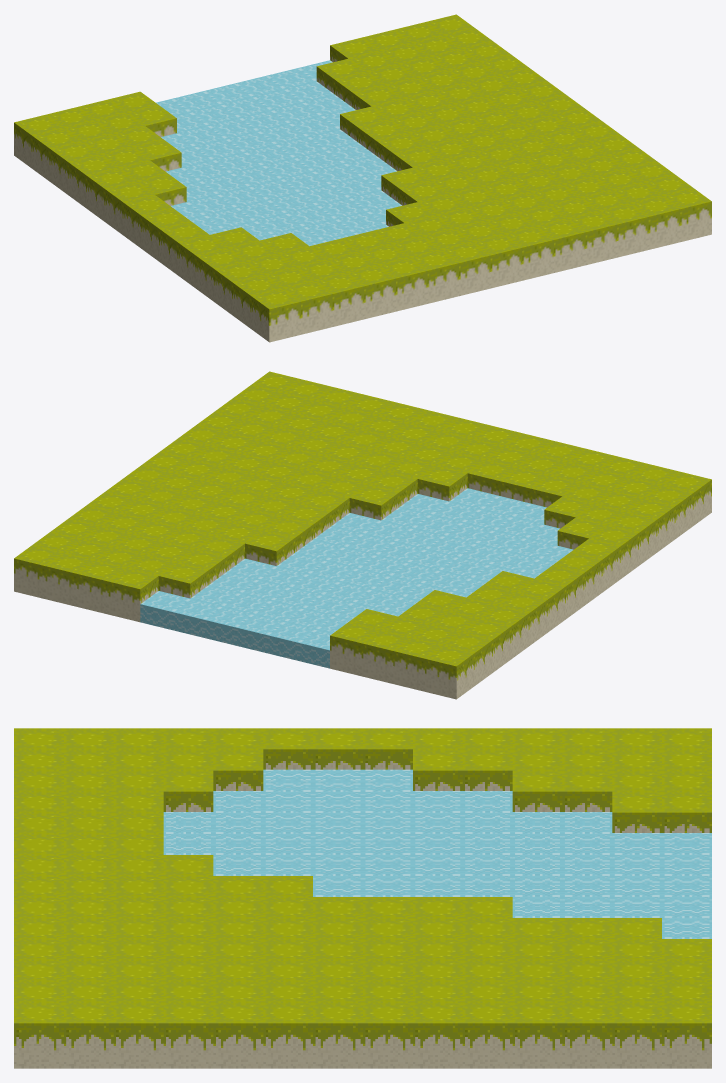
The picture shows the model from 3 angles, top to bottom: view 1: azimuth 30°, elevation 25°; view 2: azimuth 150°, elevation 25°; view 3: azimuth 270°, elevation 25°; orthographic projection. The views are drawn at different scales.
Parts seen in each view (by area): view 1: Ground_Grass_D__2__1__42_; view 2: Ground_Grass_D__2__1__42_; view 3: Ground_Grass_D__2__1__42_.
Boxes of the visible parts, x1,y1,x2,y2 form: Ground_Grass_D__2__1__42_: (14,14,711,342); Ground_Grass_D__2__1__42_: (14,371,711,699); Ground_Grass_D__2__1__42_: (14,728,711,1068).
Bounding box in the file's own units: 8400 × 600 × 8400.
Materials: 2 (2 with a texture image).
